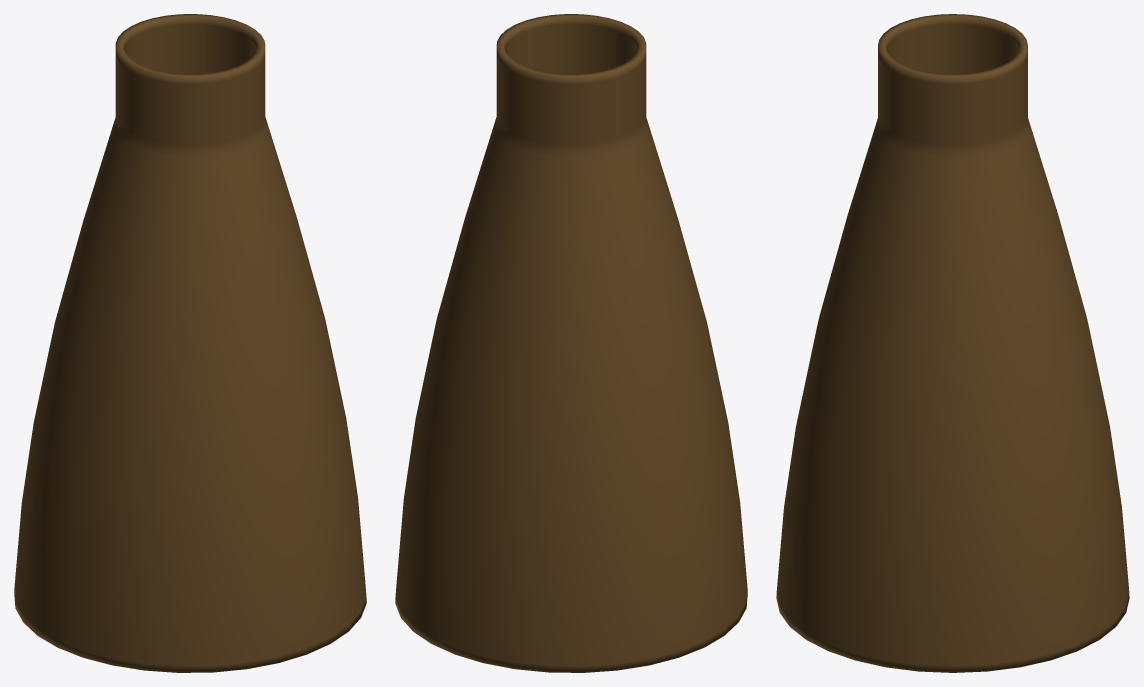
Rendered from Vase1.fbx.
The picture shows the model from 3 angles, left to right: view 1: azimuth 30°, elevation 25°; view 2: azimuth 150°, elevation 25°; view 3: azimuth 270°, elevation 25°; orthographic projection.
Parts seen in each view (by area): view 1: SM_Vase1_01; view 2: SM_Vase1_01; view 3: SM_Vase1_01.
Boxes of the visible parts, box(x1,y1,x2,y2) form: SM_Vase1_01: box(14, 14, 366, 672); SM_Vase1_01: box(395, 14, 747, 672); SM_Vase1_01: box(776, 14, 1129, 672).
Size of the model in its own units: 9.26 by 15.99 by 9.26.
